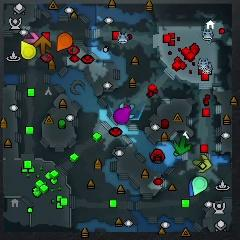p1: (189, 179, 195, 196)
p2: (193, 176, 208, 195)
p3: (113, 107, 131, 124)
p4: (20, 40, 36, 60)
p5: (57, 32, 73, 52)
x1: (24, 32, 39, 43)
x2: (193, 154, 212, 172)
x3: (119, 103, 135, 119)
x4: (173, 136, 191, 154)
x5: (34, 36, 52, 54)
